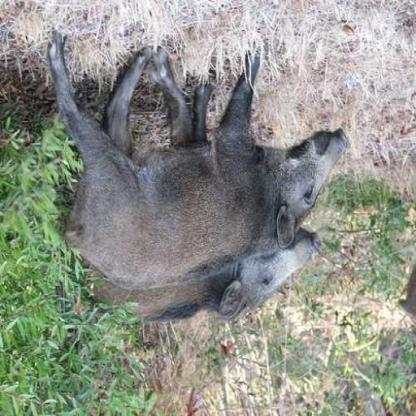boar: (74, 5, 369, 348), (122, 216, 329, 349)
